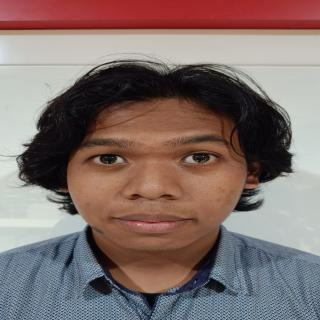Takut: (53, 90, 271, 253)
